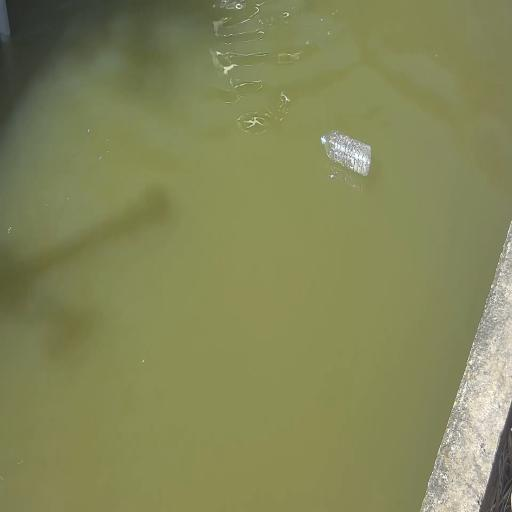plastic: (320, 128, 372, 181)
